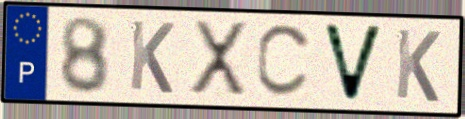8: (57, 14, 112, 96)
C: (253, 22, 316, 101)
K: (393, 26, 443, 106), (127, 18, 177, 97)
V: (319, 21, 387, 105)
X: (187, 17, 250, 101)
